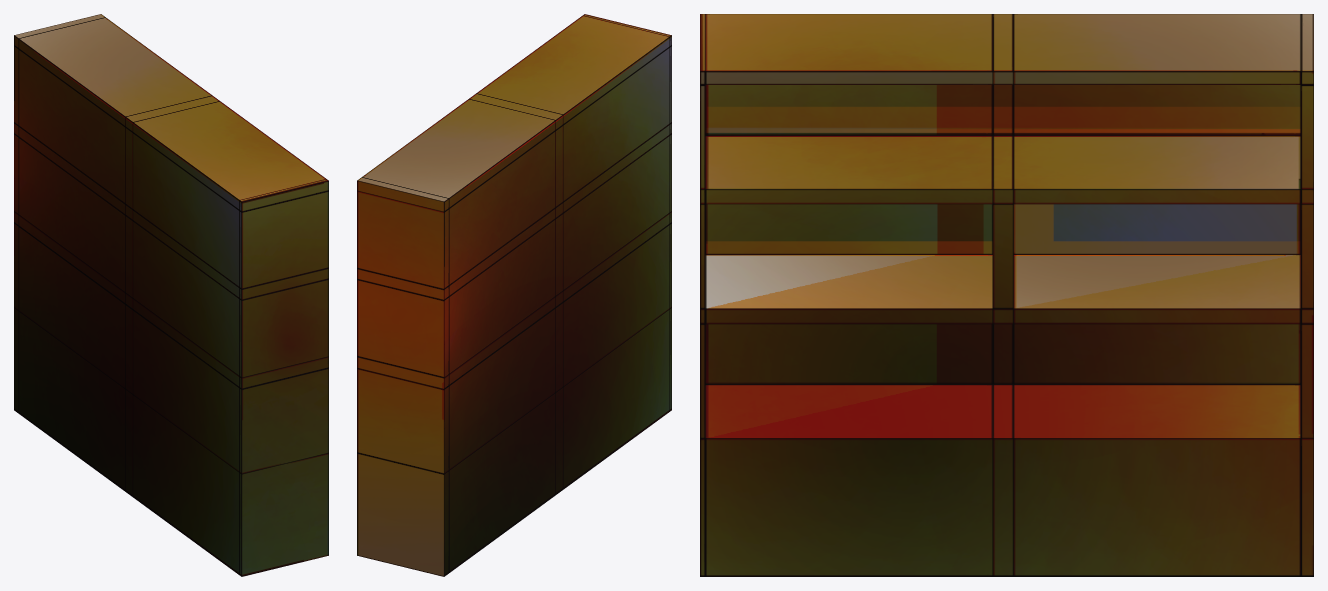
File: Barshelf.glb
3 views of the same model, side by side, from view 1: azimuth 30°, elevation 25°; view 2: azimuth 150°, elevation 25°; view 3: azimuth 270°, elevation 25° (orthographic). The views are drawn at different scales.
Visible parts, largest first — view 1: bookcase; view 2: bookcase; view 3: bookcase.
Part boxes in pixels (x1,y1,x2,y2): bookcase: (14, 14, 328, 576); bookcase: (357, 14, 671, 576); bookcase: (700, 14, 1313, 576).
Bounding box in the file's own units: 0.8722 × 3.59 × 3.95.
1 material, 1 textured.
